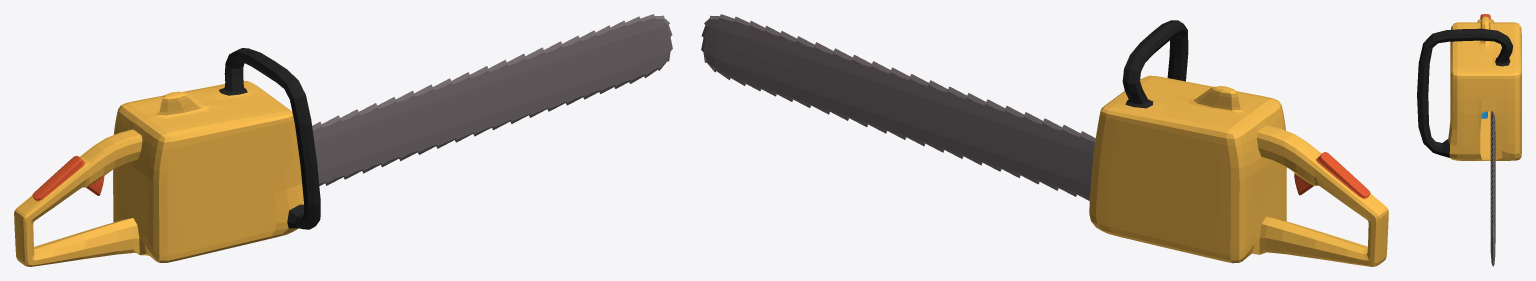
File: chainsaw.fbx
3 views of the same model, side by side, from view 1: azimuth 30°, elevation 25°; view 2: azimuth 150°, elevation 25°; view 3: azimuth 270°, elevation 25° (orthographic). The views are drawn at different scales.
Visible parts, largest first — view 1: zaag; view 2: zaag; view 3: zaag.
Boxes of the visible parts, x1,y1,x2,y2 form: zaag: [14, 14, 672, 266]; zaag: [701, 14, 1388, 266]; zaag: [1417, 14, 1521, 266].
Bounding box in the file's own units: 620 × 155 × 117.
